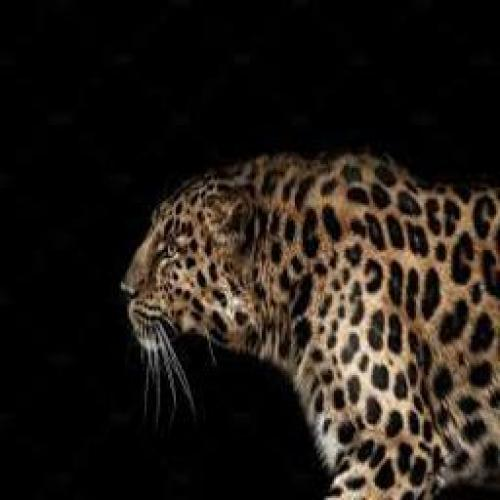amur_leopard-endangered: (116, 146, 500, 500)
